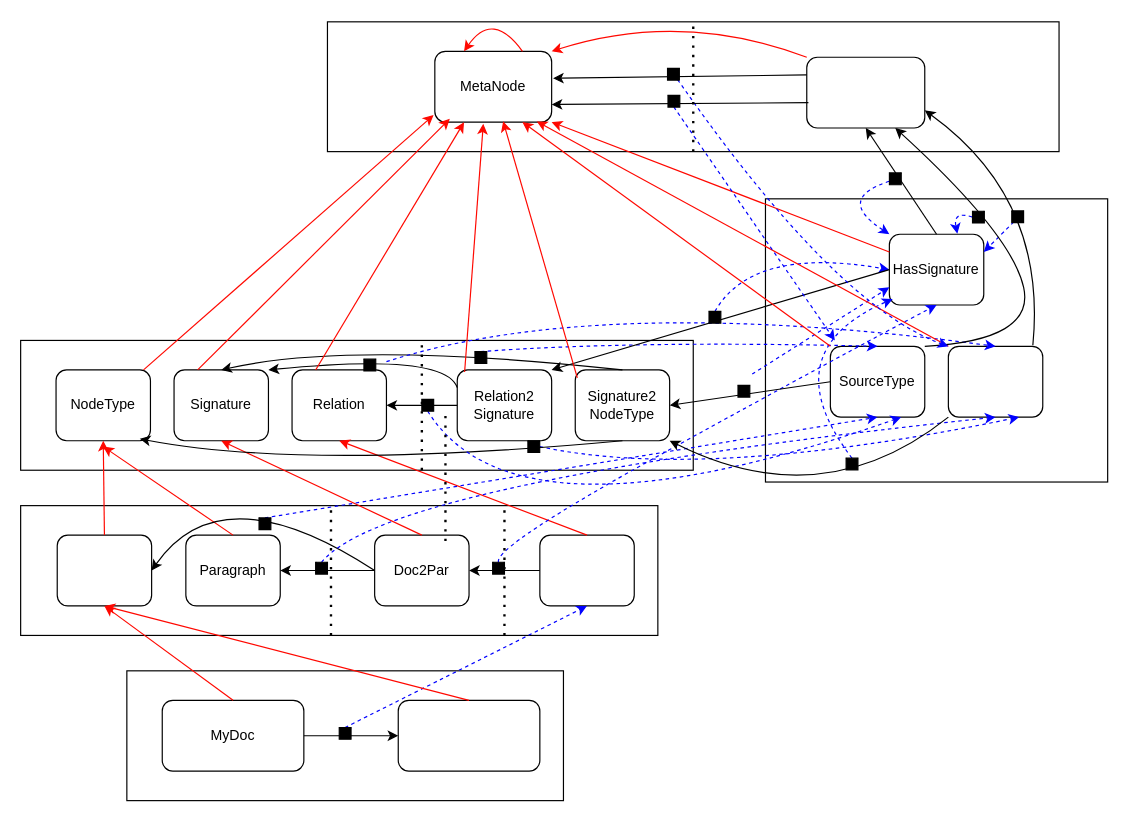
This 1129x821 diagram has some shape labels left out. The shapes that lost their labels are listed below. From the top down, each one's box as (x1, y1, x2, y2) in pixels, then its label:
(806, 56, 925, 128): MetaNode2 MetaNode
(947, 345, 1043, 417): TargetType
(56, 534, 152, 606): Document
(539, 534, 634, 606): Contains
(397, 699, 540, 771): MyParagraph
